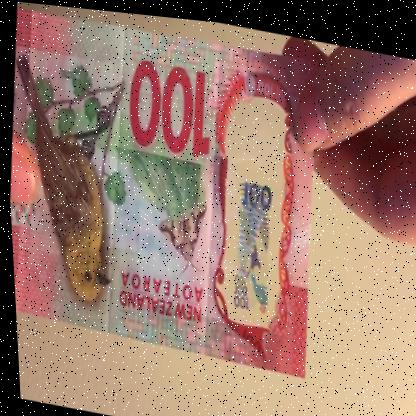100B: (213, 121, 289, 320)
